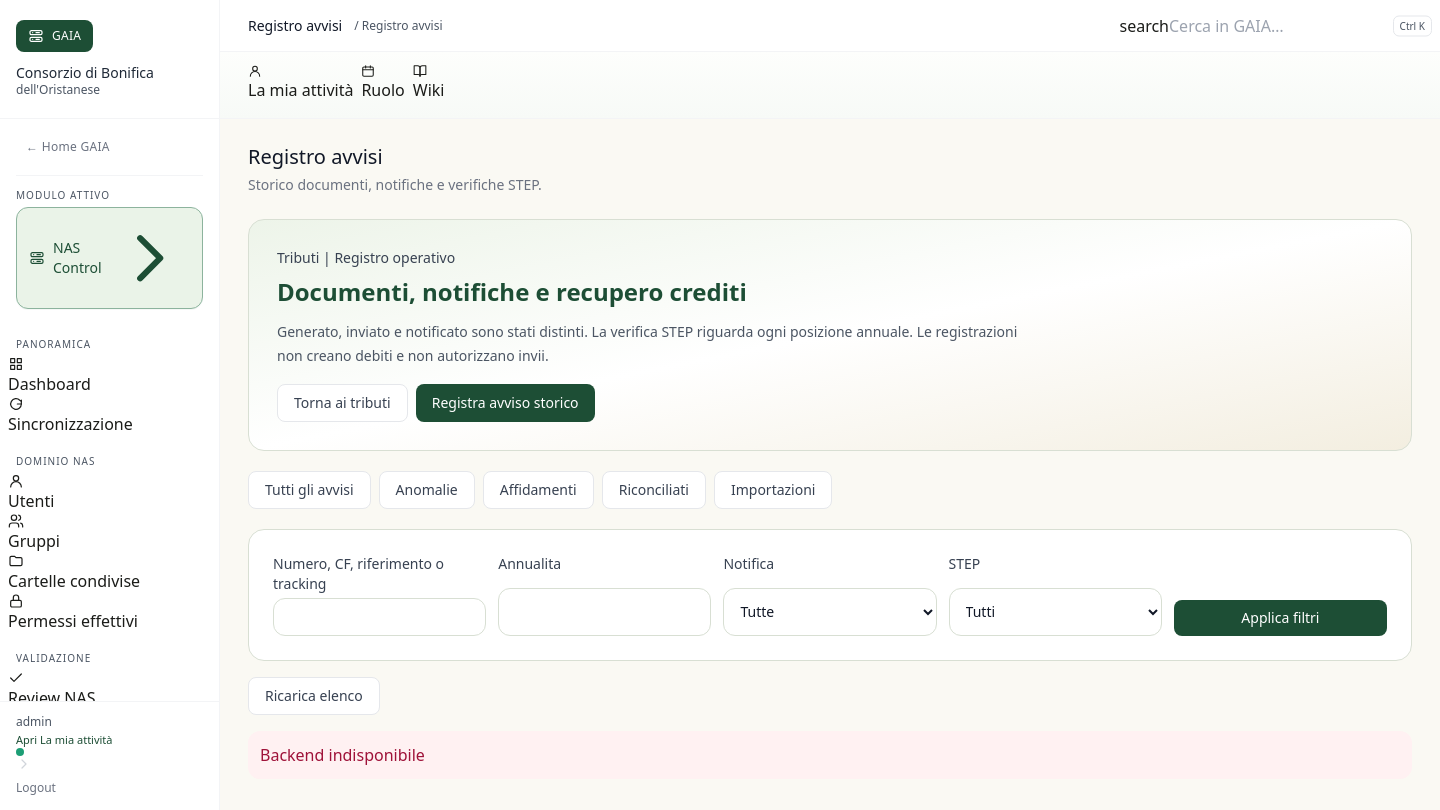
Test: registro avvisi workspace › handles load failure and retry without displaying stale records
The image size is (1440, 810).
Check: the message reads "Backend indisponibile", box [260,744,425,766]
Check: the button "Apri CUM-2022-2023" is not shown
Click the button "Ricarica elenco". click: (314,696)
box: [248,677,380,715]
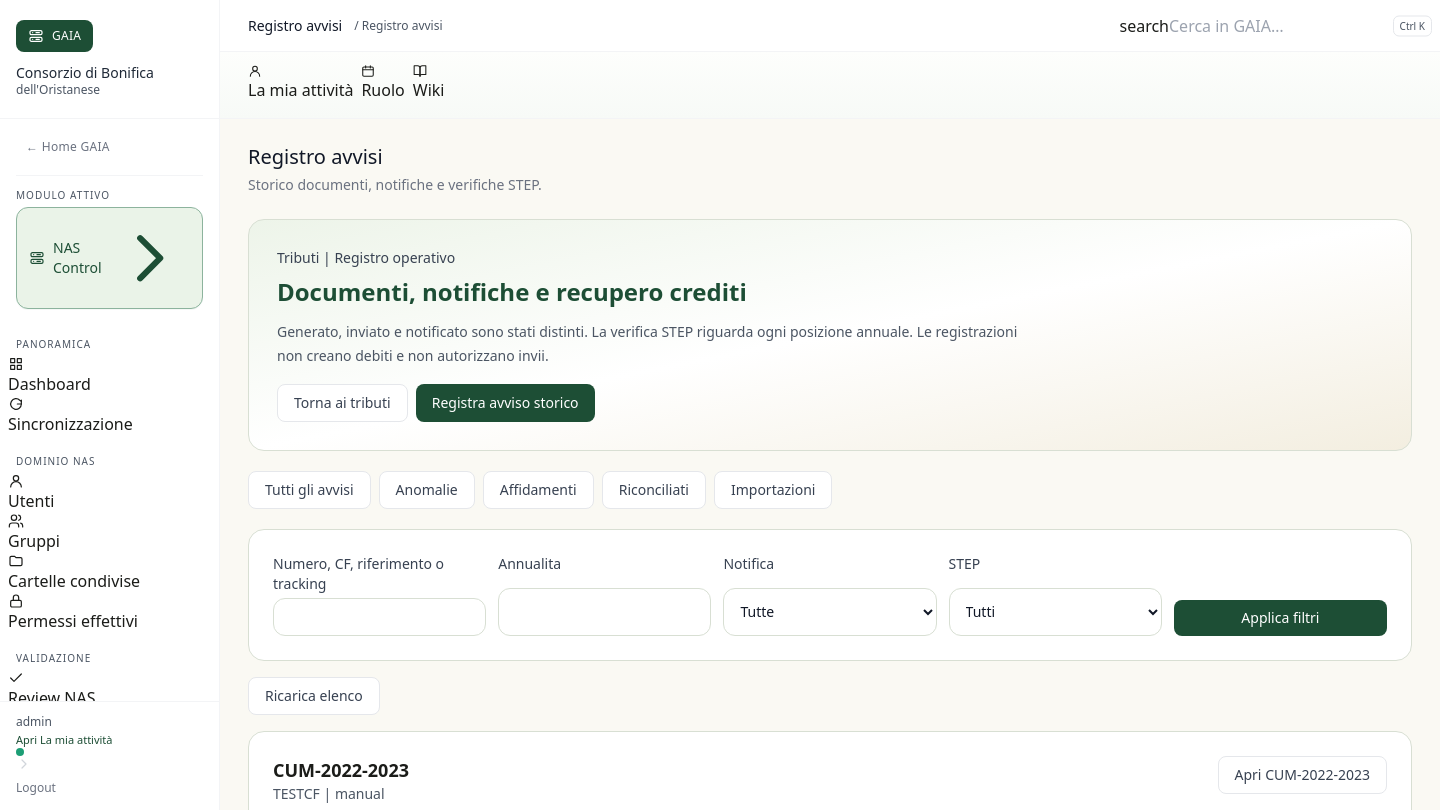
Check: the button "Apri CUM-2022-2023" is shown, box [1218,756,1387,794]
